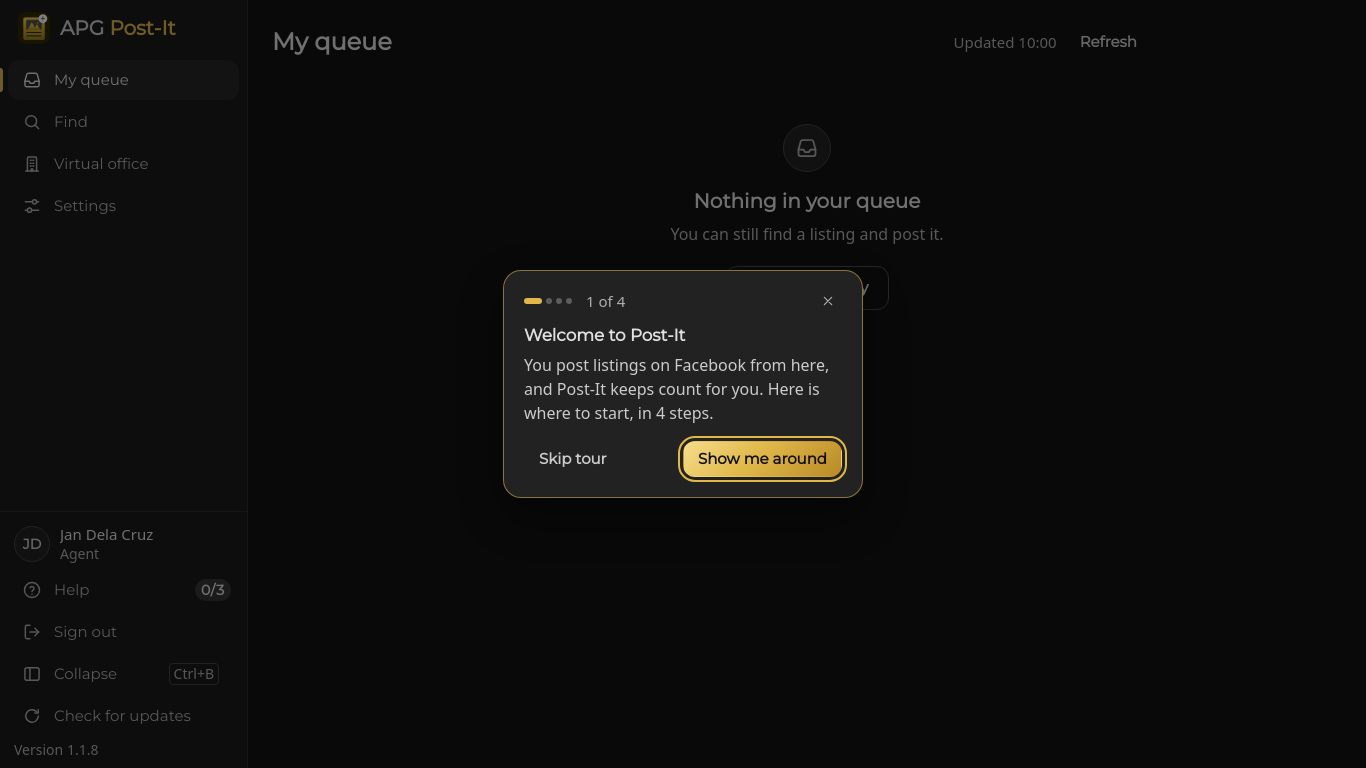
the welcome tour › starts once on My queue after a first sign-in, and shows how far along it is
Check: the text "1 of 4" is shown, box [586,290,625,312]
Check: the text "where to start, in 4 steps." is shown, box [524,354,829,424]
What coordinates should you click on to do the following:
click the button "Show me around"
I would click on:
 (762, 459)
Its box is [683,441,842,477].
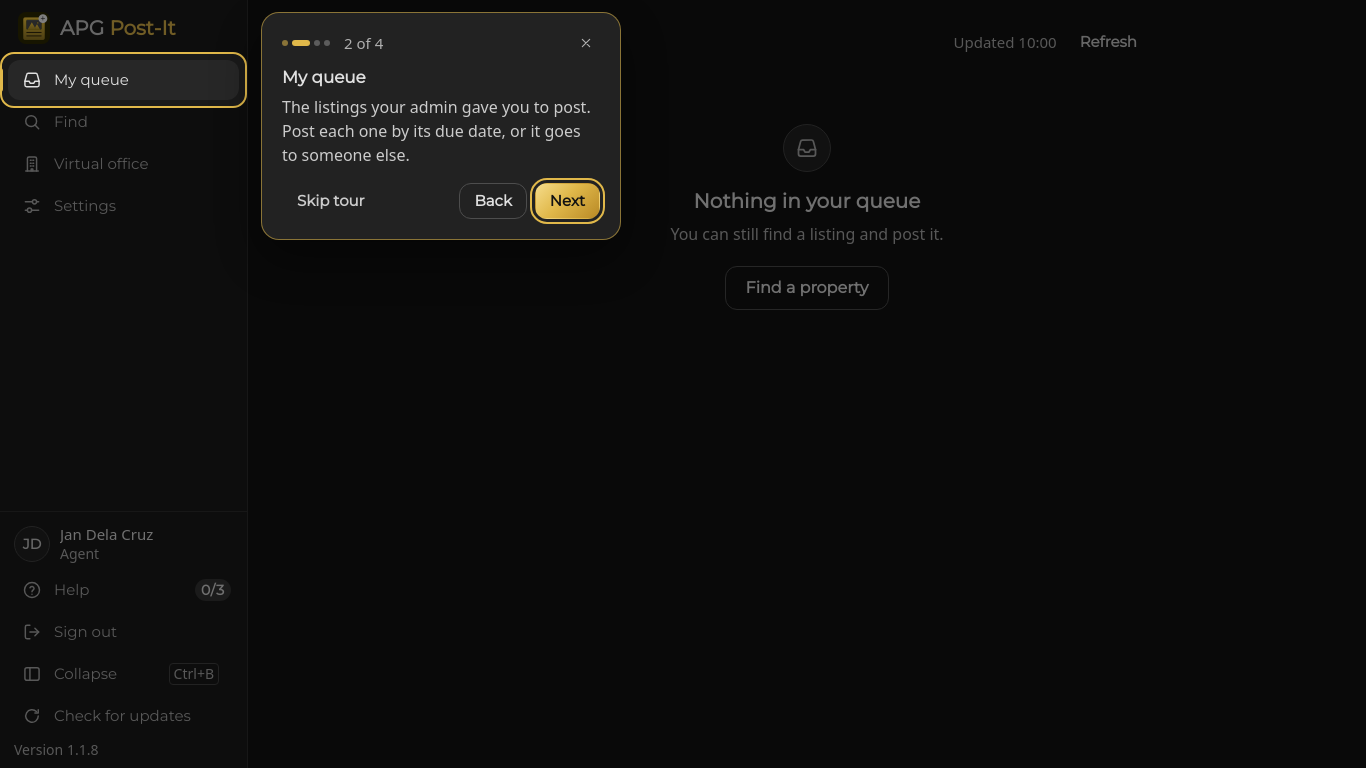
Check: the text "2 of 4" is shown, box [344,32,383,54]
Check: the text "Post each one by its due date" is shown, box [282,96,591,166]
